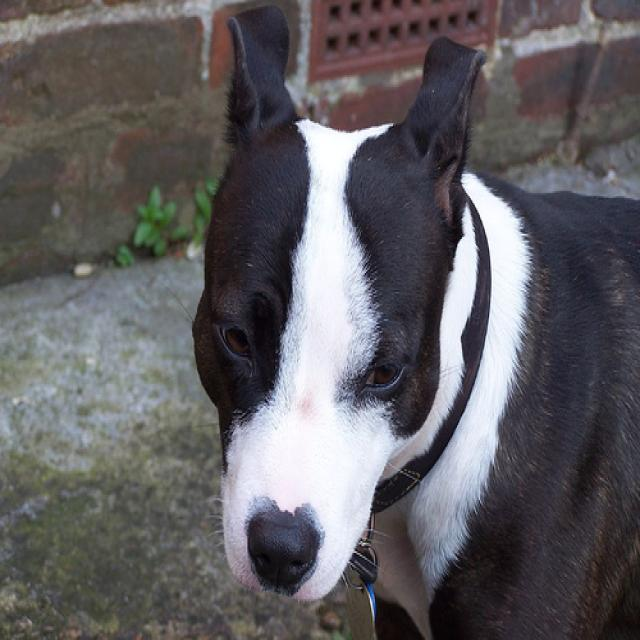dog: (190, 5, 485, 599)
